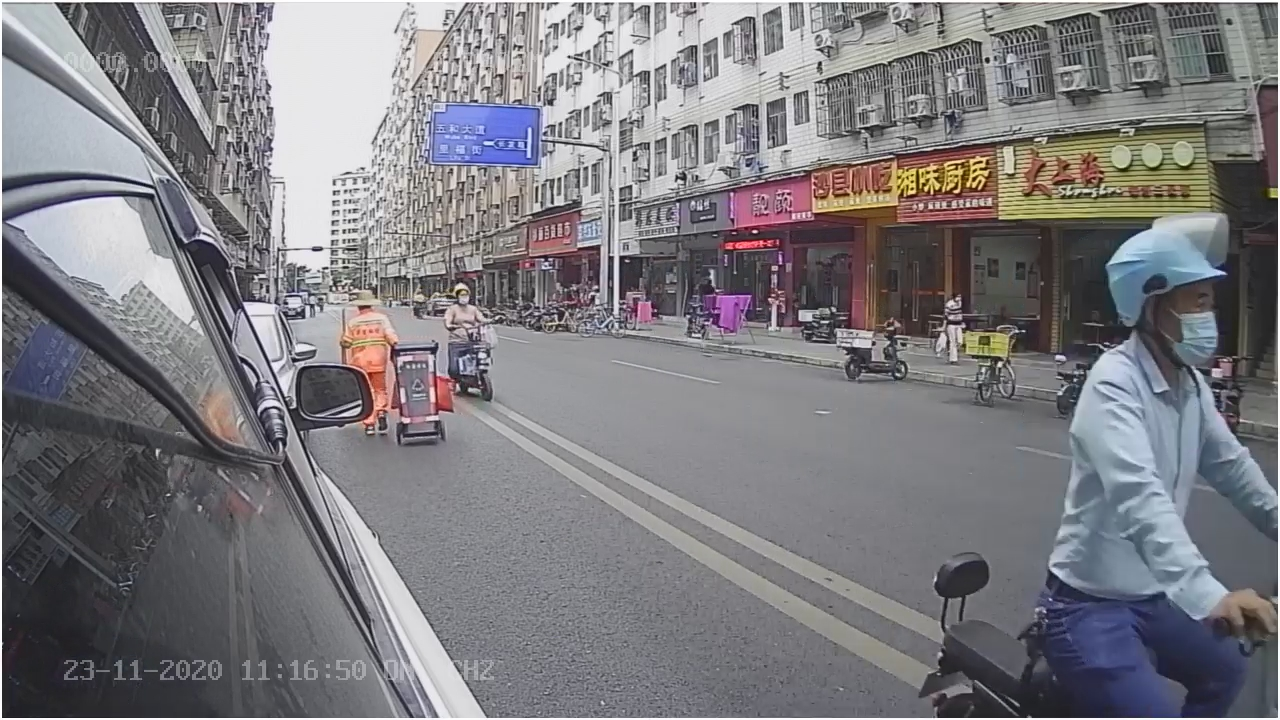person: (1057, 217, 1278, 547)
